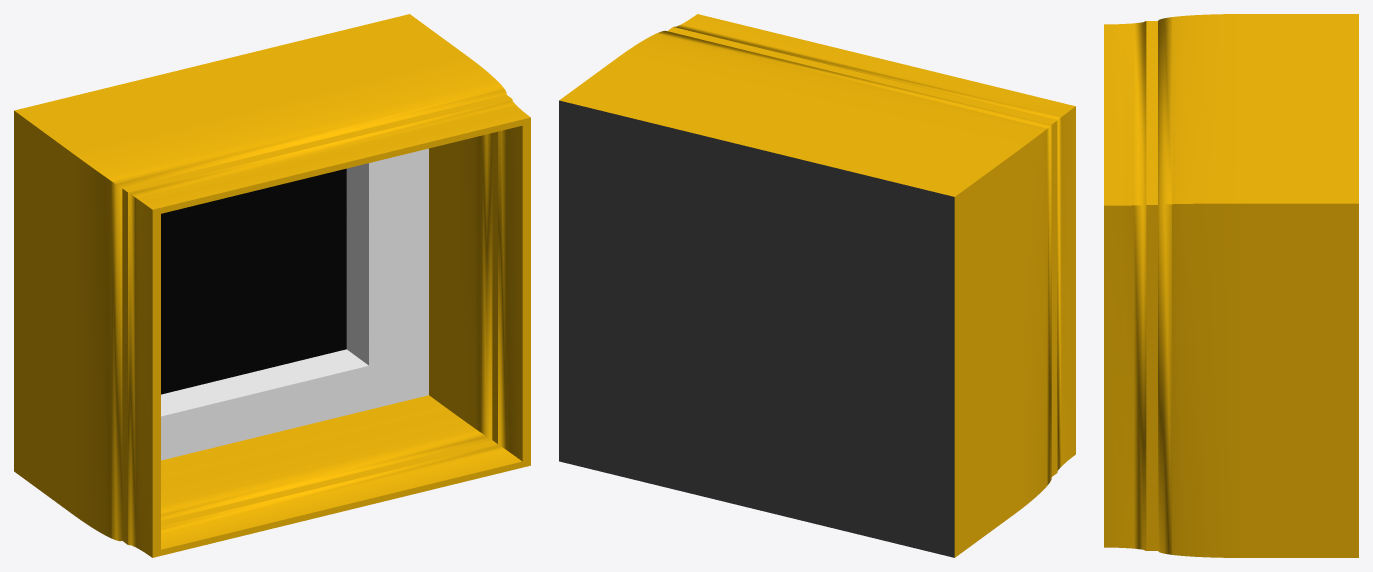
File: Frame11_gold.glb
3 renders of one model, left to right at view 1: azimuth 30°, elevation 25°; view 2: azimuth 150°, elevation 25°; view 3: azimuth 270°, elevation 25°, orthographic.
Visible parts, largest first — view 1: Empty, A_PaintingMesh; view 2: Empty; view 3: Empty.
Part boxes in pixels (x1,y1,x2,y2): Empty: [14, 14, 530, 557]; A_PaintingMesh: [161, 168, 346, 394]; Empty: [559, 14, 1075, 557]; Empty: [1104, 14, 1358, 557].
Bounding box in the file's own units: 1.76 × 1.54 × 1.
4 materials, 1 textured.
